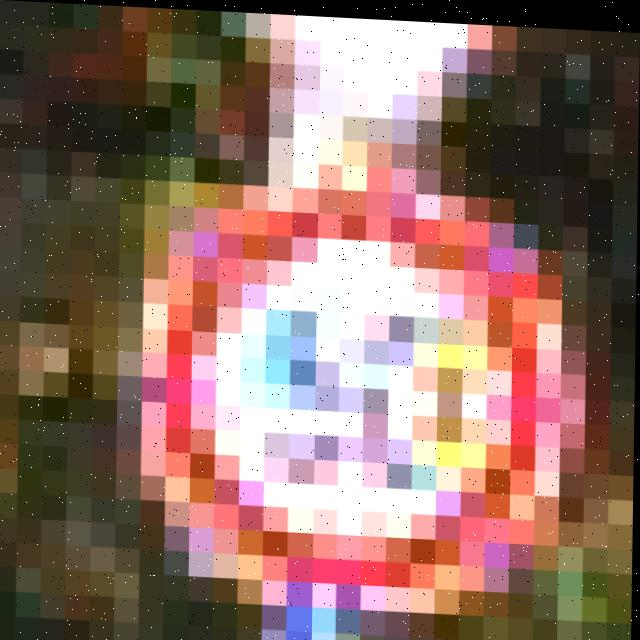speed_limit_50: (143, 176, 561, 623)
